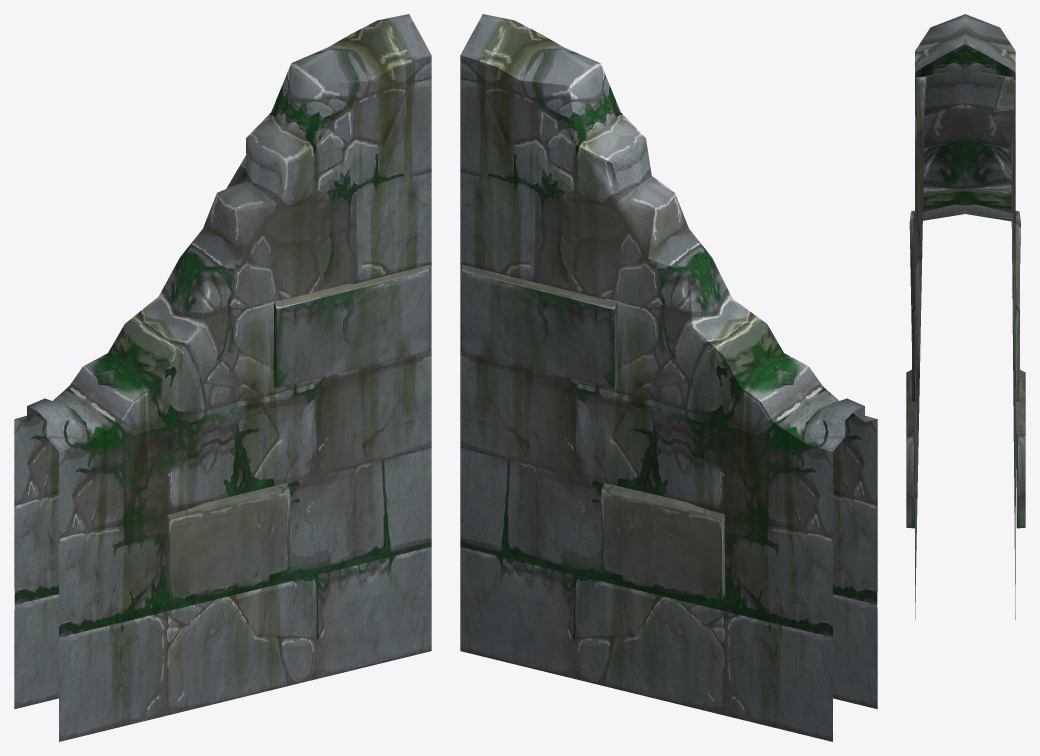
File: stemple_wall_transition_06.fbx
3 views of the same model, side by side, from view 1: azimuth 30°, elevation 25°; view 2: azimuth 150°, elevation 25°; view 3: azimuth 270°, elevation 25° (orthographic). The views are drawn at different scales.
Visible parts, largest first — view 1: stemple_wall_transition_06-0; view 2: stemple_wall_transition_06-0; view 3: stemple_wall_transition_06-0.
Part boxes in pixels (x1=…): stemple_wall_transition_06-0: x1=14, y1=14, x2=431, y2=741; stemple_wall_transition_06-0: x1=460, y1=14, x2=877, y2=741; stemple_wall_transition_06-0: x1=906, y1=14, x2=1025, y2=619.
Bounding box in the file's own units: 4 × 6.37 × 0.9844.
